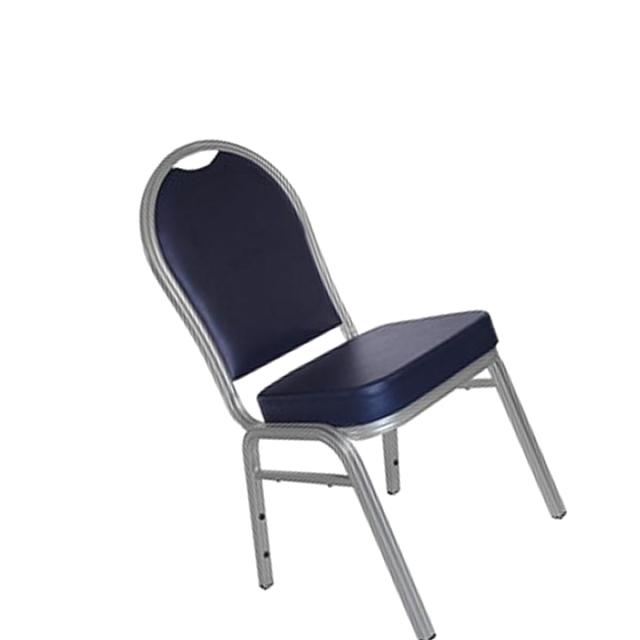Chair: (131, 136, 570, 640)
